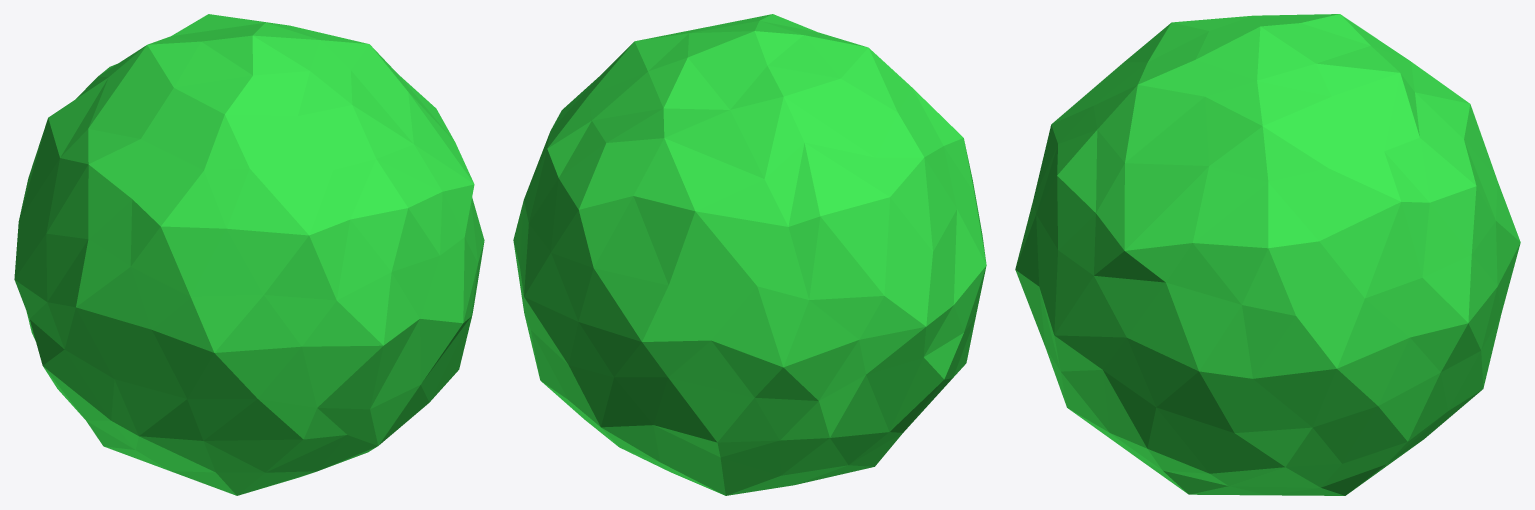
Rendered from Planet.fbx.
3 views of the same model, side by side, from view 1: azimuth 30°, elevation 25°; view 2: azimuth 150°, elevation 25°; view 3: azimuth 270°, elevation 25° (orthographic). The views are drawn at different scales.
Visible parts, largest first — view 1: Icosphere; view 2: Icosphere; view 3: Icosphere.
Part boxes in pixels (x1,y1,x2,y2): Icosphere: (14,14,484,495); Icosphere: (513,14,986,495); Icosphere: (1015,14,1520,495).
Size of the model in its own units: 193 by 199 by 200.
